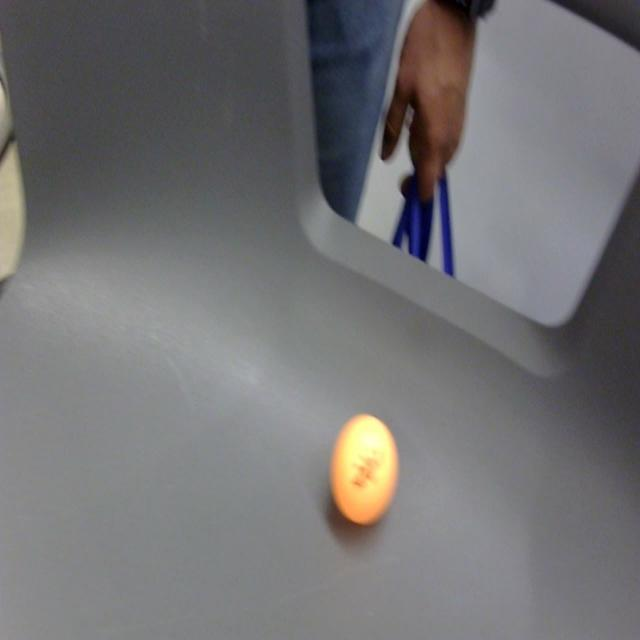ball: (328, 407, 400, 529)
